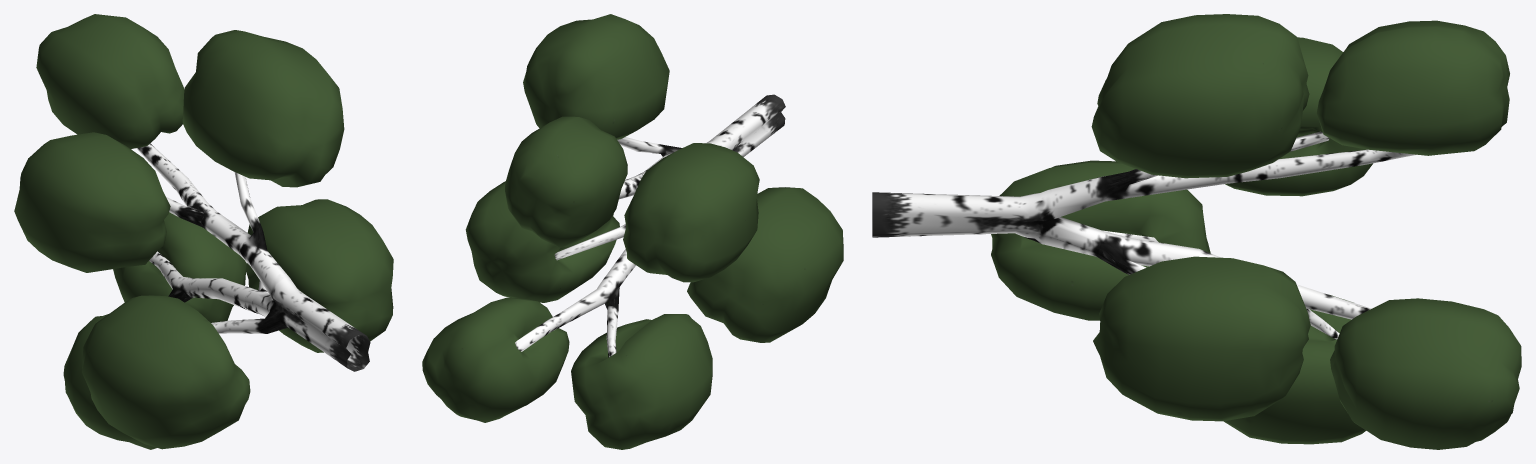
The model's file is birch_02.dae.
The picture shows the model from 3 angles, left to right: view 1: azimuth 30°, elevation 25°; view 2: azimuth 150°, elevation 25°; view 3: azimuth 270°, elevation 25°; orthographic projection. The views are drawn at different scales.
Parts seen in each view (by area): view 1: birch_02; view 2: birch_02; view 3: birch_02.
Part boxes in pixels (x1,y1,x2,y2): birch_02: (14, 14, 393, 449); birch_02: (422, 14, 843, 449); birch_02: (872, 14, 1521, 449).
Bounding box in the file's own units: 2.15 × 3.21 × 2.53.
1 material, 1 textured.
